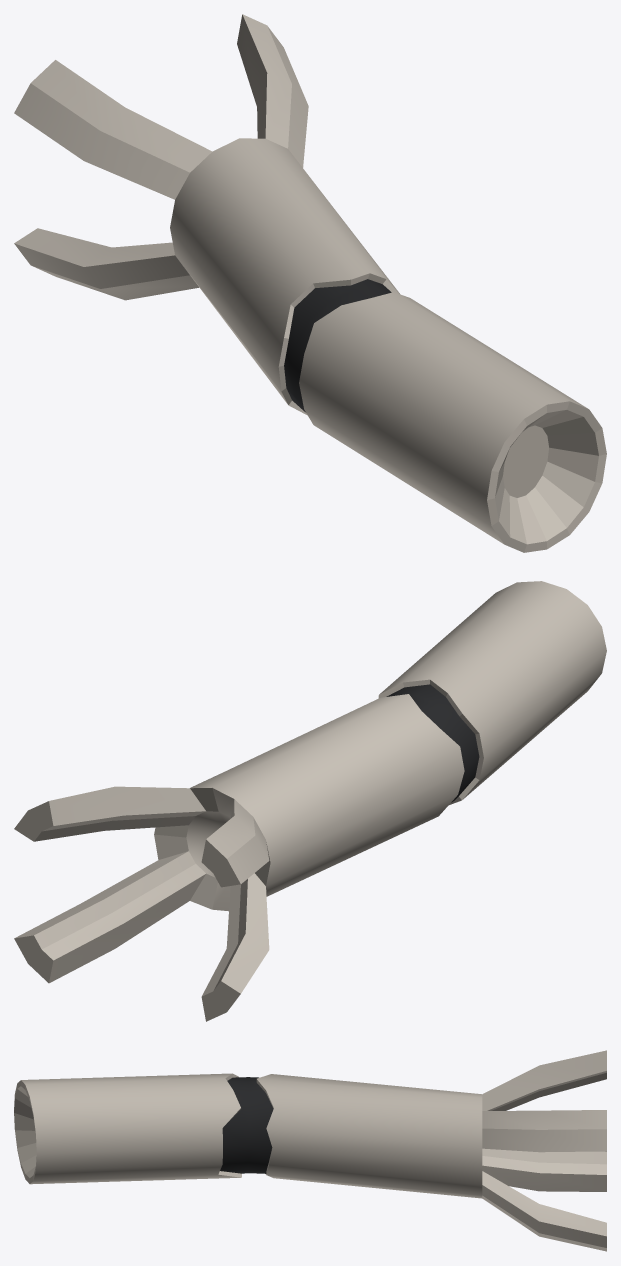
The model's file is RobotArm.fbx.
3 renders of one model, top to bottom at view 1: azimuth 30°, elevation 25°; view 2: azimuth 150°, elevation 25°; view 3: azimuth 270°, elevation 25°, orthographic. The views are drawn at different scales.
Parts seen in each view (by area): view 1: RobotArm; view 2: RobotArm; view 3: RobotArm.
Part boxes in pixels (bbox=[...]): RobotArm: bbox=[14, 14, 606, 552]; RobotArm: bbox=[14, 581, 606, 1021]; RobotArm: bbox=[14, 1050, 606, 1251].
Bounding box in the file's own units: 1.81 × 1.38 × 5.23.
Materials: 2 (2 with a texture image).
